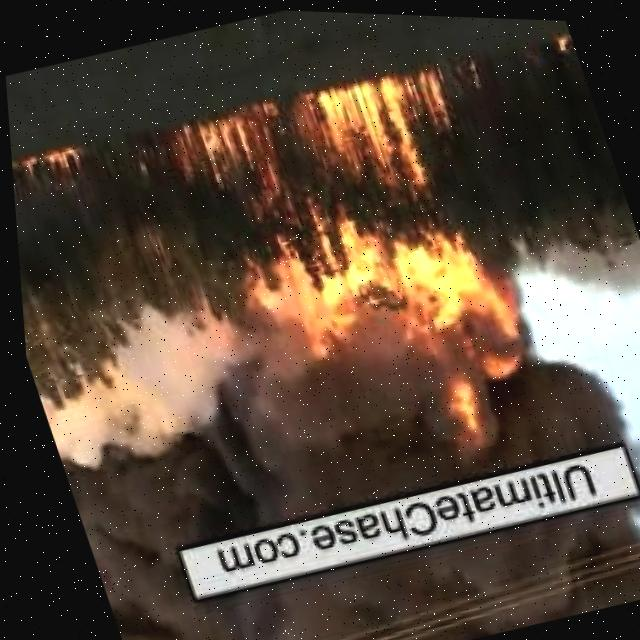Fire: (142, 50, 550, 456), (8, 142, 90, 198)
Smoke: (46, 315, 640, 581), (95, 474, 640, 640)
